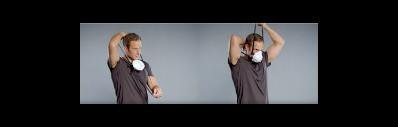mask_weared_incorrect: (131, 45, 145, 65)
with_mask: (253, 46, 263, 63)
